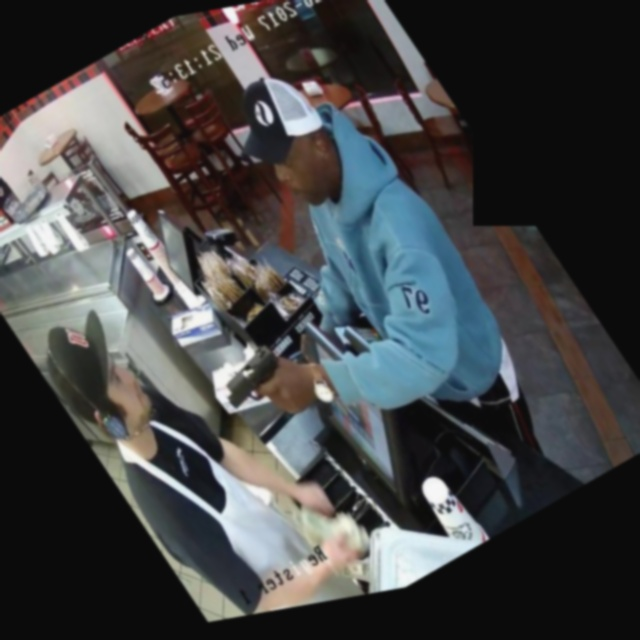gun: (190, 319, 318, 437)
